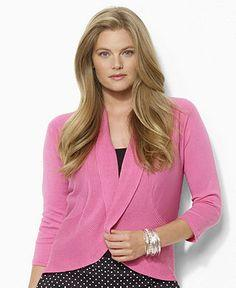S_cardigan sweater: (34, 97, 225, 287)
